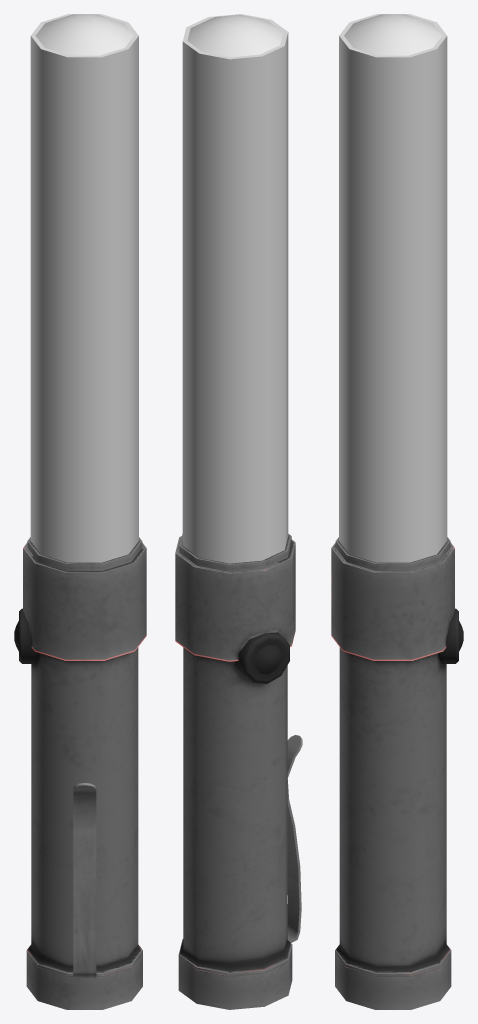
Rendered from Marshalling Wand.fbx.
3 renders of one model, left to right at view 1: azimuth 90°, elevation 25°; view 2: azimuth 210°, elevation 25°; view 3: azimuth 270°, elevation 25°, orthographic.
Visible parts, largest first — view 1: Glass_low, Base_low, Button_low; view 2: Glass_low, Base_low, Button_low; view 3: Glass_low, Base_low, Button_low.
Part boxes in pixels (x1,y1,x2,y2): Glass_low: [30, 14, 138, 562]; Base_low: [23, 537, 146, 1009]; Button_low: [14, 608, 39, 663]; Glass_low: [182, 14, 288, 563]; Base_low: [175, 534, 302, 1009]; Button_low: [234, 632, 289, 684]; Glass_low: [339, 14, 447, 562]; Base_low: [331, 537, 454, 1009]; Button_low: [438, 608, 463, 663].
Size of the model in its own units: 4.42 by 35.06 by 4.35.
2 materials, 1 textured.
